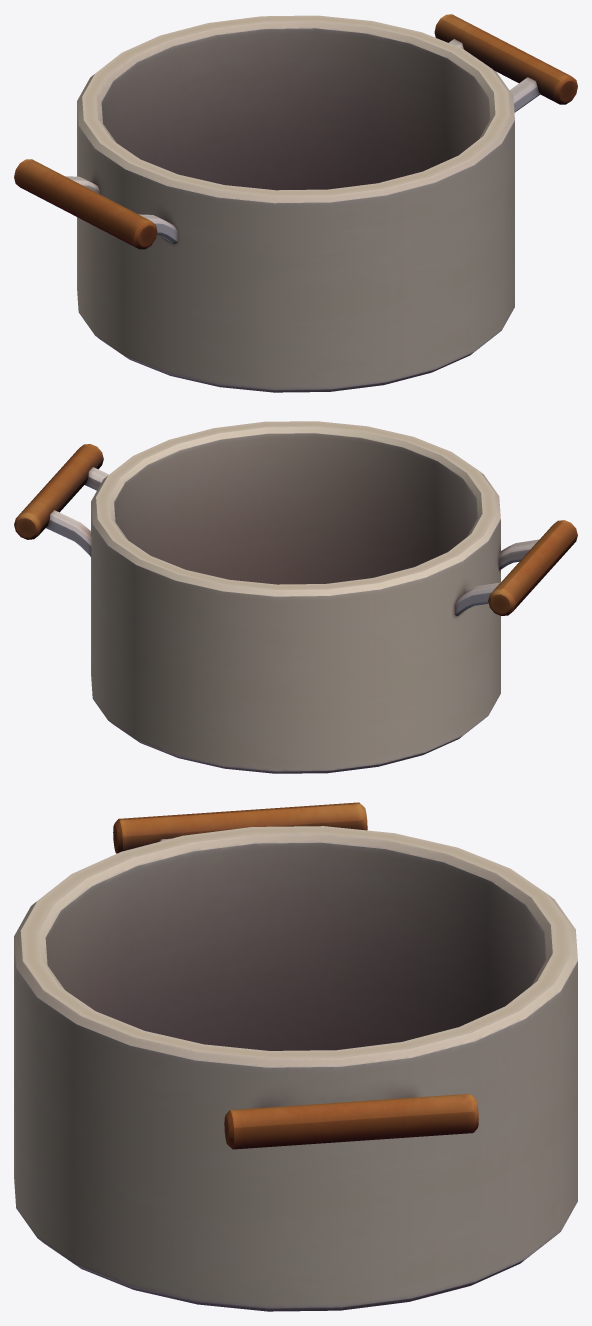
File: Pot.fbx
The picture shows the model from 3 angles, top to bottom: view 1: azimuth 30°, elevation 25°; view 2: azimuth 150°, elevation 25°; view 3: azimuth 270°, elevation 25°; orthographic projection. The views are drawn at different scales.
Visible parts, largest first — view 1: Pot.001; view 2: Pot.001; view 3: Pot.001.
Boxes of the visible parts, <box> form: Pot.001: <box>14,14,577,392</box>; Pot.001: <box>14,421,577,773</box>; Pot.001: <box>14,802,577,1311</box>.
Size of the model in its own units: 172 by 62.37 by 126.
Materials: 1 (1 with a texture image).
